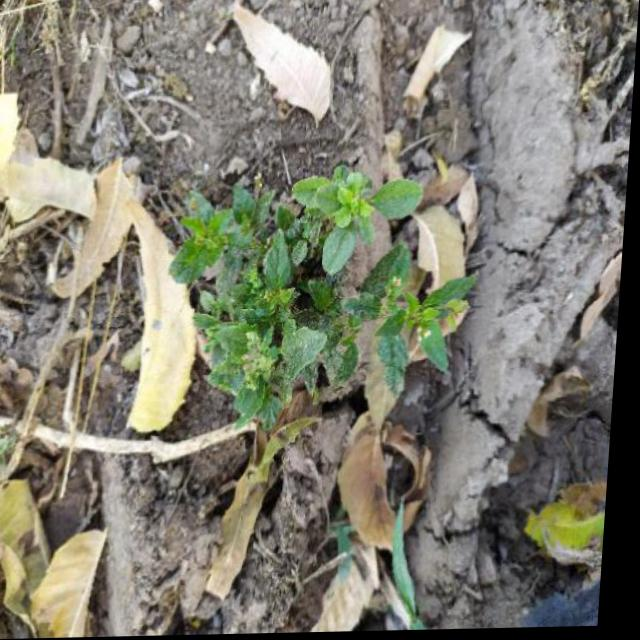weed: (163, 169, 506, 425)
